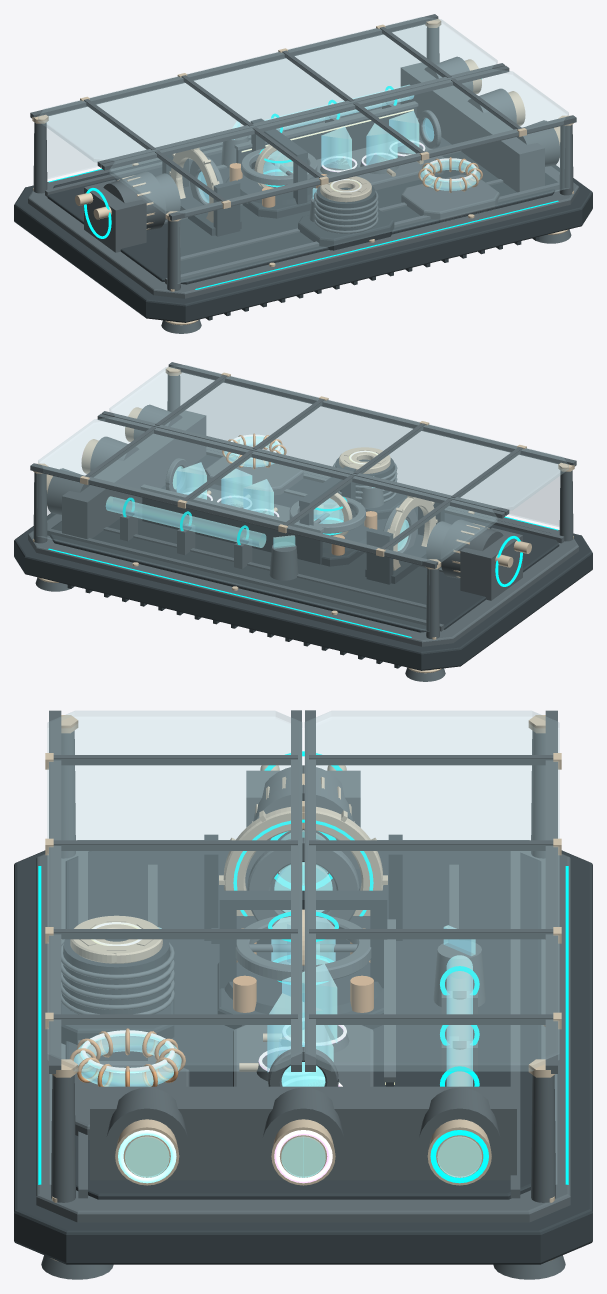
The model's file is omnibridge-photonic-matrix.glb.
The picture shows the model from 3 angles, top to bottom: view 1: azimuth 30°, elevation 25°; view 2: azimuth 150°, elevation 25°; view 3: azimuth 270°, elevation 25°; orthographic projection. The views are drawn at different scales.
Parts seen in each view (by area): view 1: Canopy_Starboard, Chassis_Base, Canopy_Port, Manifold_Egress, Module_KeychainVault, Module_Ingress, Module_ProtocolBridge, Module_LocalLoop, Module_Crossbar, Module_Registry, Channel_Official_Bypass, Registry_Wheel_Outer (+4 smaller); view 2: Canopy_Port, Chassis_Base, Canopy_Starboard, Manifold_Egress, Module_KeychainVault, Module_Ingress, Channel_Official_Bypass, Module_LocalLoop, Module_ProtocolBridge, Module_Crossbar, Module_Registry, Registry_Wheel_Outer (+4 smaller); view 3: Chassis_Base, Canopy_Port, Canopy_Starboard, Manifold_Egress, Module_Crossbar, Module_KeychainVault, Module_ProtocolBridge, Module_LocalLoop, Channel_Official_Bypass, Module_Ingress, Registry_Wheel_Outer, Crossbar_Gimbal_Yaw (+4 smaller).
Part boxes in pixels (bbox=[...]): Canopy_Starboard: bbox=[101, 66, 576, 283]; Chassis_Base: bbox=[14, 19, 592, 333]; Canopy_Port: bbox=[30, 14, 505, 178]; Manifold_Egress: bbox=[400, 56, 560, 192]; Module_KeychainVault: bbox=[234, 101, 418, 250]; Module_Ingress: bbox=[75, 171, 180, 252]; Module_ProtocolBridge: bbox=[317, 110, 447, 189]; Module_LocalLoop: bbox=[309, 157, 499, 222]; Module_Crossbar: bbox=[225, 118, 326, 218]; Module_Registry: bbox=[162, 154, 241, 236]; Channel_Official_Bypass: bbox=[221, 84, 413, 167]; Registry_Wheel_Outer: bbox=[169, 148, 219, 222]; Canopy_Port: bbox=[30, 414, 505, 631]; Chassis_Base: bbox=[14, 367, 592, 681]; Canopy_Starboard: bbox=[101, 362, 576, 526]; Manifold_Egress: bbox=[46, 404, 206, 538]; Module_KeychainVault: bbox=[140, 458, 407, 564]; Module_Ingress: bbox=[426, 519, 531, 600]; Channel_Official_Bypass: bbox=[105, 496, 298, 580]; Module_LocalLoop: bbox=[205, 433, 383, 507]; Module_ProtocolBridge: bbox=[165, 458, 289, 519]; Module_Crossbar: bbox=[299, 466, 381, 566]; Module_Registry: bbox=[365, 502, 444, 584]; Registry_Wheel_Outer: bbox=[387, 496, 437, 570]; Chassis_Base: bbox=[14, 715, 592, 1279]; Canopy_Port: bbox=[304, 710, 561, 1184]; Canopy_Starboard: bbox=[45, 710, 302, 1184]; Manifold_Egress: bbox=[90, 1086, 516, 1185]; Module_Crossbar: bbox=[217, 890, 387, 1029]; Module_KeychainVault: bbox=[61, 919, 395, 1086]; Module_ProtocolBridge: bbox=[233, 964, 373, 1086]; Module_LocalLoop: bbox=[70, 927, 189, 1139]; Channel_Official_Bypass: bbox=[433, 925, 485, 1086]; Module_Ingress: bbox=[246, 751, 360, 890]; Registry_Wheel_Outer: bbox=[219, 801, 387, 916]; Crossbar_Gimbal_Yaw: bbox=[235, 916, 371, 982].
Size of the model in its own units: 6.65 by 1.71 by 4.15.
